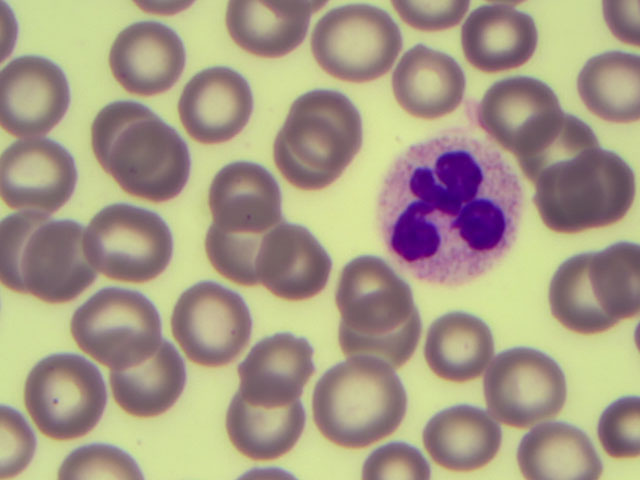RBC: (94, 105, 186, 195), (24, 346, 108, 440), (2, 211, 89, 300), (86, 204, 173, 291), (68, 284, 165, 362), (316, 358, 402, 444), (551, 151, 638, 232), (484, 346, 570, 424), (224, 382, 308, 461), (267, 121, 348, 200), (281, 89, 359, 170), (556, 245, 623, 338), (201, 206, 281, 283), (179, 282, 251, 366), (111, 338, 187, 417), (105, 23, 188, 94), (322, 6, 400, 80), (423, 396, 503, 468), (238, 334, 313, 408), (338, 264, 412, 338), (1, 140, 78, 211), (258, 224, 331, 297), (567, 149, 635, 227), (204, 167, 284, 232), (488, 76, 558, 150), (30, 224, 95, 302), (225, 1, 316, 56), (340, 307, 422, 368), (400, 42, 465, 118), (189, 66, 252, 144), (525, 416, 601, 480), (3, 58, 68, 132), (427, 311, 491, 386), (581, 47, 640, 128), (1, 209, 57, 294), (466, 8, 539, 69), (589, 380, 640, 461), (529, 155, 582, 231), (591, 240, 640, 316), (62, 442, 149, 480), (1, 402, 44, 478), (370, 438, 430, 480), (398, 1, 467, 32), (597, 2, 640, 45), (128, 1, 206, 19), (235, 462, 302, 480), (3, 1, 19, 55)
WBC: (383, 133, 525, 284)
